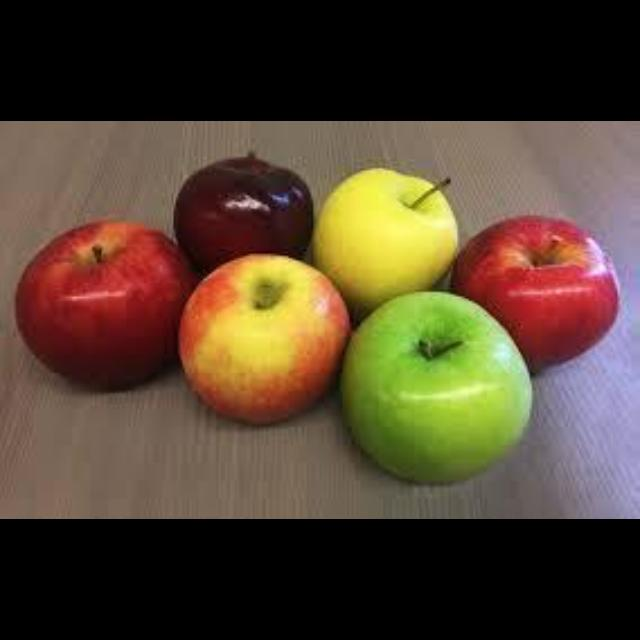apple: (338, 292, 530, 479), (14, 220, 196, 389), (178, 254, 349, 423), (451, 216, 617, 371), (311, 168, 455, 319), (174, 153, 311, 272)
